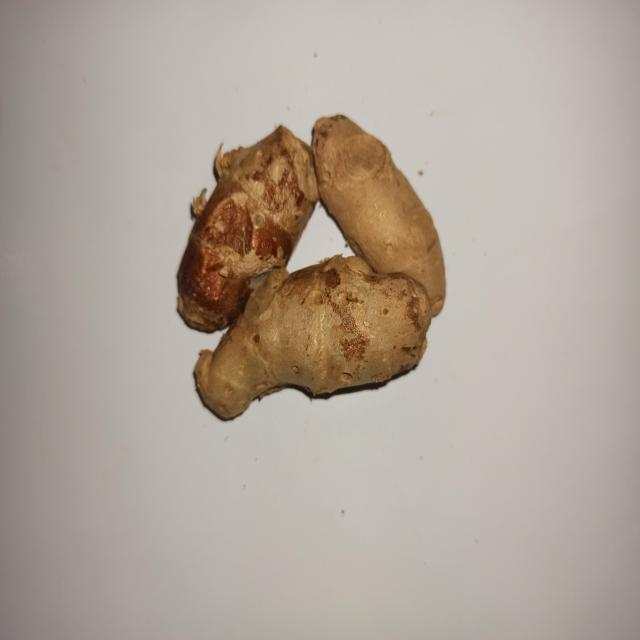ginger: (193, 117, 446, 398)
